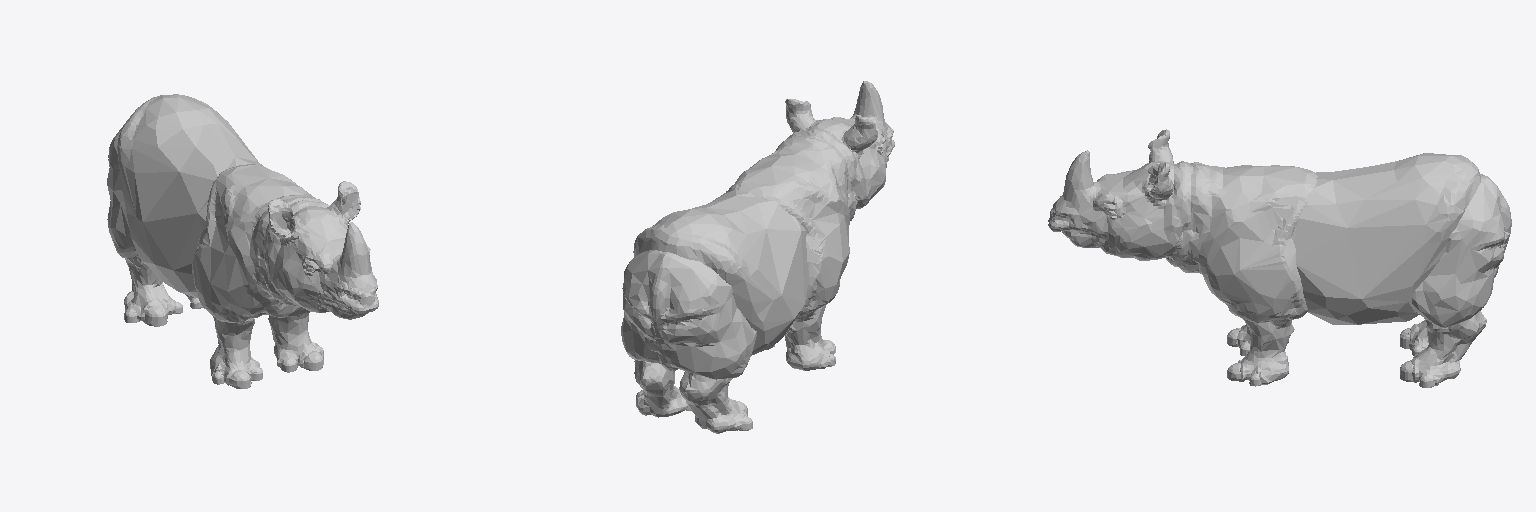
Rendered from RHINO.obj.
3 views of the same model, side by side, from view 1: azimuth 30°, elevation 25°; view 2: azimuth 150°, elevation 25°; view 3: azimuth 270°, elevation 25° (orthographic).
Parts seen in each view (by area): view 1: mesh02; view 2: mesh02; view 3: mesh02.
Boxes of the visible parts, x1,y1,x2,y2 form: mesh02: [107, 94, 378, 388]; mesh02: [621, 81, 894, 433]; mesh02: [1048, 129, 1511, 387].
Size of the model in its own units: 2.95 by 4.74 by 9.24.